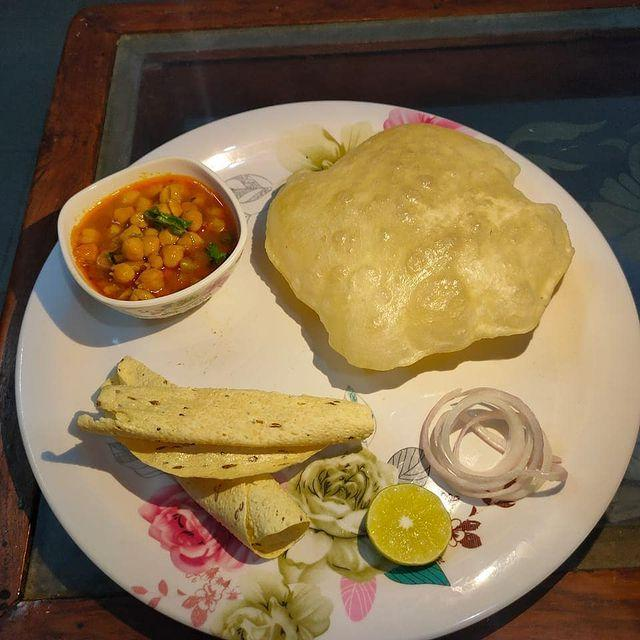Chole: (82, 170, 232, 304)
